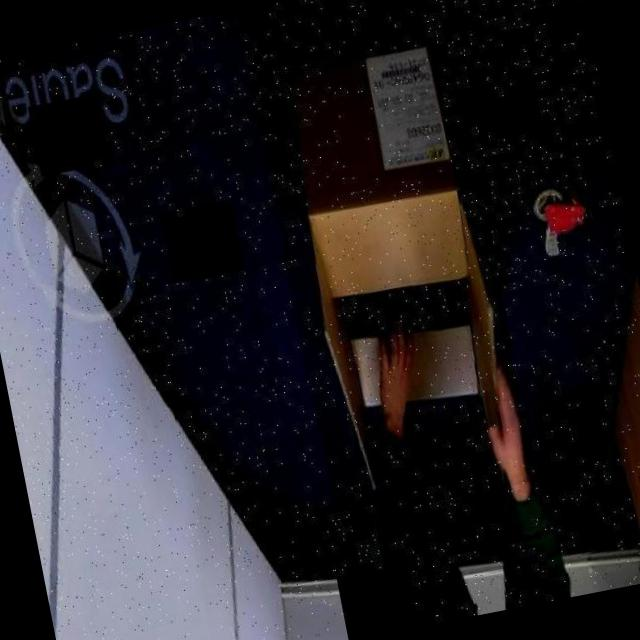box: (246, 18, 537, 520)
